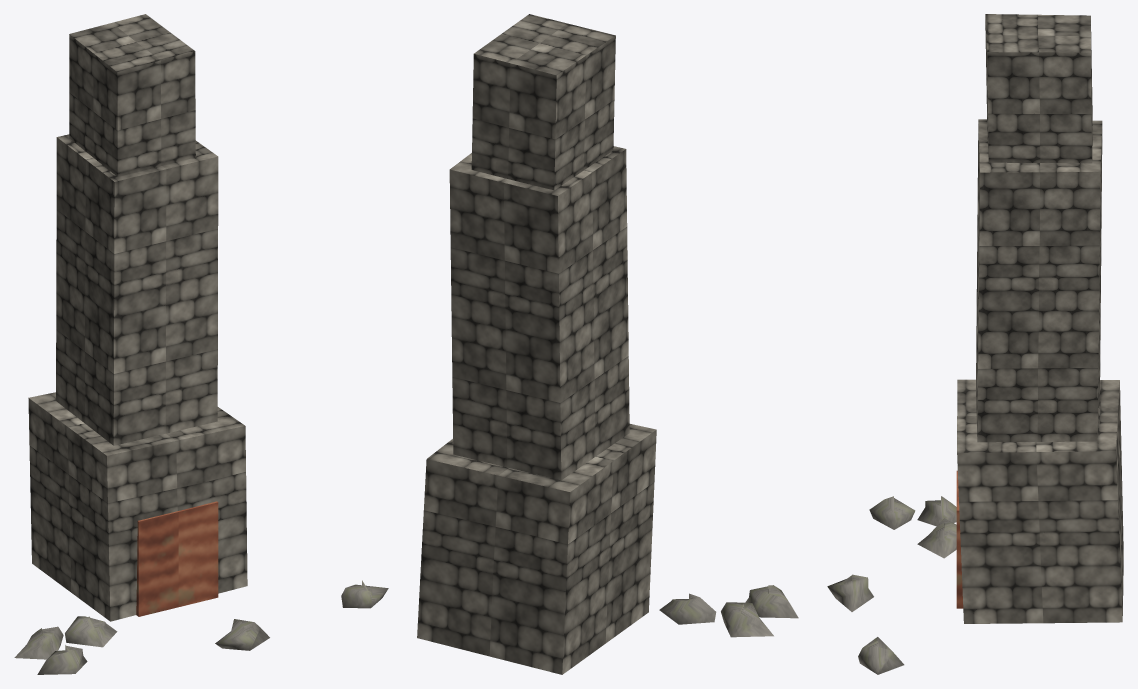
File: Chimney_DryStone_1_LOD1.gltf
The picture shows the model from 3 angles, left to right: view 1: azimuth 30°, elevation 25°; view 2: azimuth 150°, elevation 25°; view 3: azimuth 270°, elevation 25°; orthographic projection. The views are drawn at different scales.
Parts seen in each view (by area): view 1: Chimney_DryStone_1_LOD1; view 2: Chimney_DryStone_1_LOD1; view 3: Chimney_DryStone_1_LOD1.
Boxes of the visible parts, x1,y1,x2,y2 form: Chimney_DryStone_1_LOD1: [14, 14, 388, 674]; Chimney_DryStone_1_LOD1: [417, 14, 798, 674]; Chimney_DryStone_1_LOD1: [827, 14, 1123, 674].
Size of the model in its own units: 3.02 by 4.54 by 2.2.
Materials: 3 (3 with a texture image).
